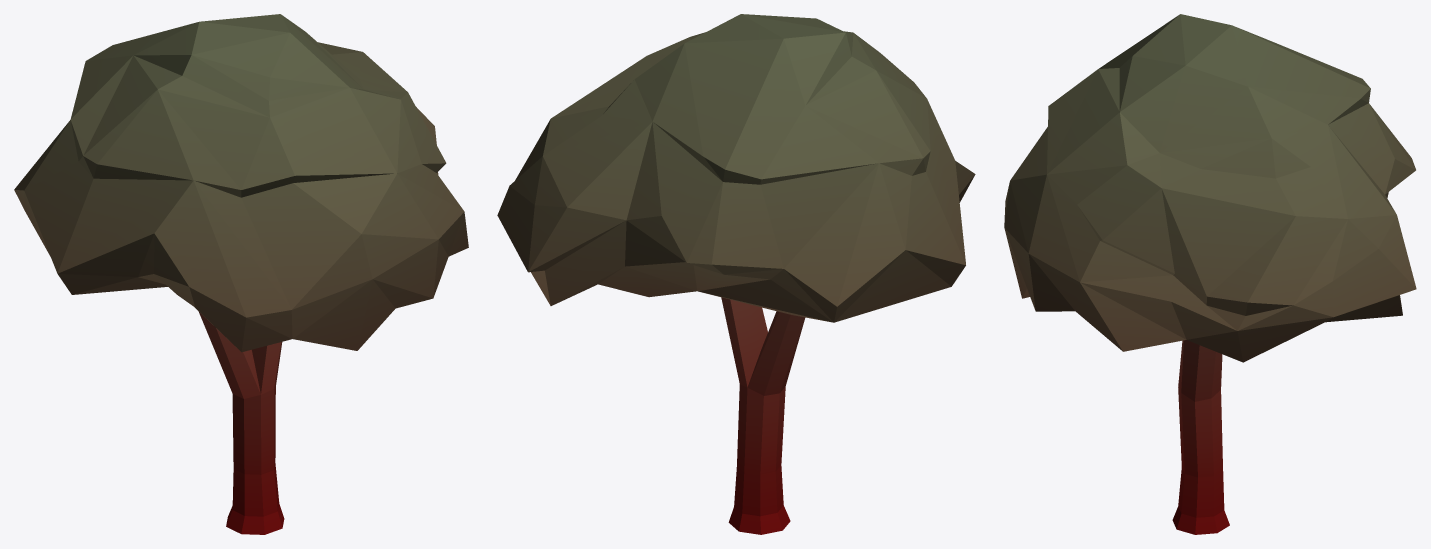
Rendered from synty-tree-04.gltf.
3 renders of one model, left to right at view 1: azimuth 30°, elevation 25°; view 2: azimuth 150°, elevation 25°; view 3: azimuth 270°, elevation 25°, orthographic. The views are drawn at different scales.
Visible parts, largest first — view 1: SM_Tree_04; view 2: SM_Tree_04; view 3: SM_Tree_04.
Boxes of the visible parts, bbox=[...] form: SM_Tree_04: bbox=[14, 14, 468, 534]; SM_Tree_04: bbox=[497, 14, 975, 534]; SM_Tree_04: bbox=[1004, 14, 1416, 534].
Bounding box in the file's own units: 3.99 × 4.7 × 3.66.
Materials: 1 (1 with a texture image).
